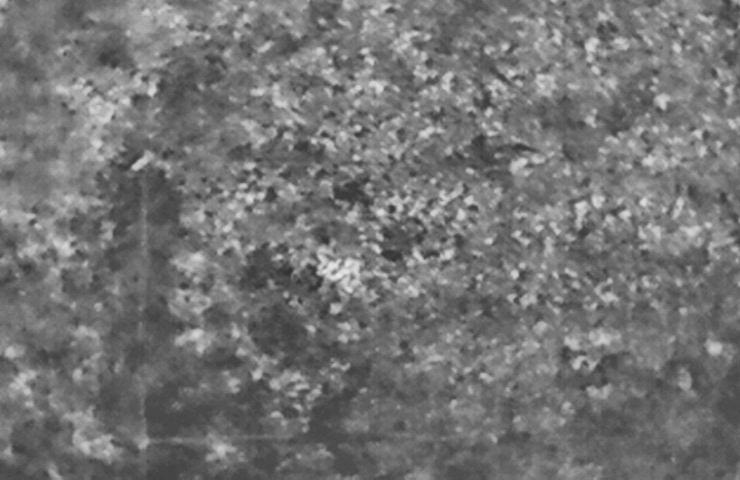landmines: (321, 247, 369, 289)
